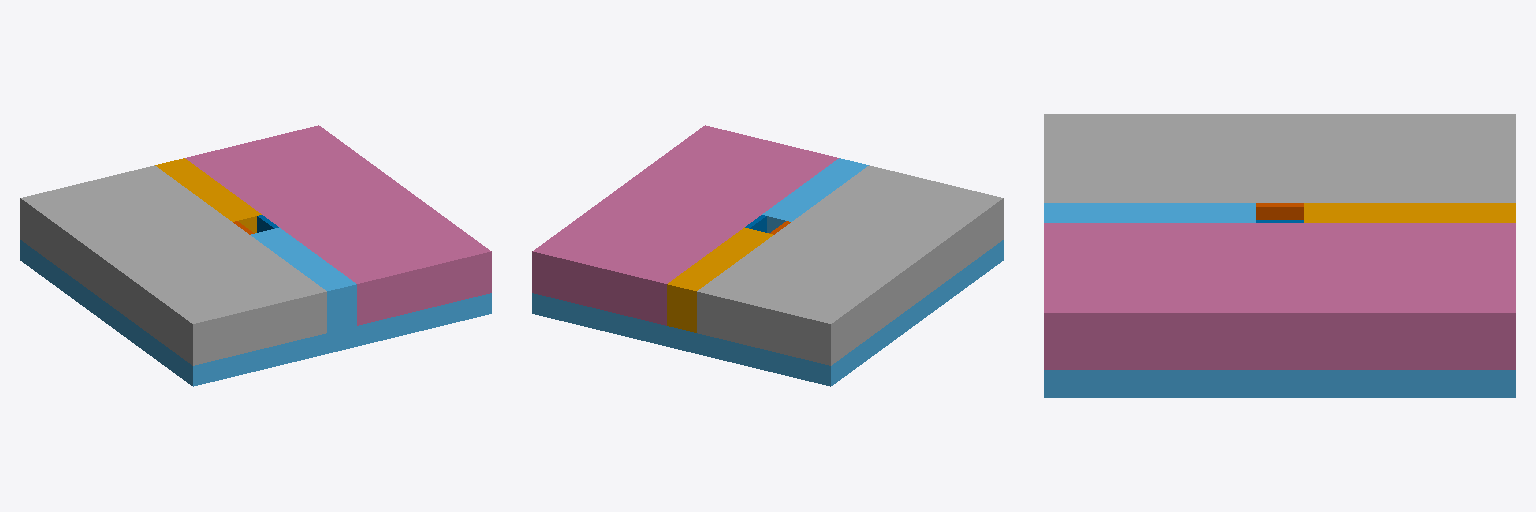
The robot description file, URDF, robot "cube_skeleton":
<?xml version="1.0"?>
<robot name="cube_skeleton">
    <link name="world"/>
    <link name="base_link">
        <inertial>
            <mass value="0.01" />
            <origin xyz="0.000 0 0" rpy="0 0 0" />
            <inertia ixx="1.0" ixy="0" ixz="0" iyy="1.0" iyz="0" izz="1.0" />
        </inertial>
        <visual>
            <origin xyz="0 0 0" rpy="0 0 0" />
            <geometry>
                <mesh filename="./base.obj"/>
            </geometry>
        </visual>
        <collision group="default">
            <origin xyz="0.00 0 0" rpy="0 -0 0" />
            <geometry>
                <mesh filename="./base.obj"/>
            </geometry>
        </collision>
    </link>
    <joint name="base_joint" type="fixed">
        <origin xyz="0 0.0 0.0" rpy="0 0 0" />
        <parent link="world" />
        <child link="base_link" />
    </joint>
    <link name="left">
        <inertial>
            <mass value="0.01" />
            <origin xyz="0.000 0 0" rpy="0 0 0" />
            <inertia ixx="1.0" ixy="0" ixz="0" iyy="1.0" iyz="0" izz="1.0" />
        </inertial>
        <visual>
            <origin xyz="0 0 0" rpy="0 0 0" />
            <geometry>
                <mesh filename="./cube.obj"/>
            </geometry>
        </visual>
        <collision group="default">
            <origin xyz="0.00 0 0" rpy="0 -0 0" />
            <geometry>
                <mesh filename="./cube.obj"/>
            </geometry>
        </collision>
    </link>
    <joint name="left_joint" type="fixed">
        <origin xyz="0 0.0125 0.03" rpy="0 0 0" />
        <parent link="base_link" />
        <child link="left" />
    </joint>
    <link name="right">
        <inertial>
            <mass value="0.01" />
            <origin xyz="0.000 0 0" rpy="0 0 0" />
            <inertia ixx="1.0" ixy="0" ixz="0" iyy="1.0" iyz="0" izz="1.0" />
        </inertial>
        <visual>
            <origin xyz="0 0 0" rpy="0 0 0" />
            <geometry>
                <mesh filename="./cube.obj"/>
            </geometry>
        </visual>
        <collision group="default">
            <origin xyz="0.00 0 0" rpy="0 -0 0" />
            <geometry>
                <mesh filename="./cube.obj"/>
            </geometry>
        </collision>
    </link>
    <joint name="right_joint" type="fixed">
        <origin xyz="0 -0.0125 0.03" rpy="0 0 0" />
        <parent link="base_link" />
        <child link="right" />
    </joint>
    <link name="up">
        <inertial>
            <mass value="0.01" />
            <origin xyz="0.000 0 0" rpy="0 0 0" />
            <inertia ixx="1.0" ixy="0" ixz="0" iyy="1.0" iyz="0" izz="1.0" />
        </inertial>
        <visual>
            <origin xyz="0 0 0" rpy="0 0 0" />
            <geometry>
                <mesh filename="./cube1.obj"/>
            </geometry>
        </visual>
        <collision group="default">
            <origin xyz="0.00 0 0" rpy="0 -0 0" />
            <geometry>
                <mesh filename="./cube1.obj"/>
            </geometry>
        </collision>
    </link>
    <joint name="up_joint" type="fixed">
        <origin xyz="0.0125 0.0 0.03" rpy="0 0 0" />
        <parent link="base_link" />
        <child link="up" />
    </joint>
    <link name="down">
        <inertial>
            <mass value="0.01" />
            <origin xyz="0.000 0 0" rpy="0 0 0" />
            <inertia ixx="1.0" ixy="0" ixz="0" iyy="1.0" iyz="0" izz="1.0" />
        </inertial>
        <visual>
            <origin xyz="0 0 0" rpy="0 0 0" />
            <geometry>
                <mesh filename="./cube1.obj"/>
            </geometry>
        </visual>
        <collision group="default">
            <origin xyz="0.00 0 0" rpy="0 -0 0" />
            <geometry>
                <mesh filename="./cube1.obj"/>
            </geometry>
        </collision>
    </link>
    <joint name="down_joint" type="fixed">
        <origin xyz="-0.0125 0.0 0.03" rpy="0 0 0" />
        <parent link="base_link" />
        <child link="down" />
    </joint>
     <link name="base_up">
        <inertial>
            <mass value="0.01" />
            <origin xyz="0.000 0 0" rpy="0 0 0" />
            <inertia ixx="1.0" ixy="0" ixz="0" iyy="1.0" iyz="0" izz="1.0" />
        </inertial>
        <visual>
            <origin xyz="0 0 0" rpy="0 0 0" />
            <geometry>
                <mesh filename="./cube2.obj"/>
            </geometry>
        </visual>
        <collision group="default">
            <origin xyz="0.00 0 0" rpy="0 -0 0" />
            <geometry>
                <mesh filename="./cube2.obj"/>
            </geometry>
        </collision>
    </link>
    <joint name="base_up_joint" type="fixed">
        <origin xyz="0.0825 0.0 0.03" rpy="0 0 0" />
        <parent link="base_link" />
        <child link="base_up" />
    </joint>
    <link name="base_down">
        <inertial>
            <mass value="0.01" />
            <origin xyz="0.000 0 0" rpy="0 0 0" />
            <inertia ixx="1.0" ixy="0" ixz="0" iyy="1.0" iyz="0" izz="1.0" />
        </inertial>
        <visual>
            <origin xyz="0 0 0" rpy="0 0 0" />
            <geometry>
                <mesh filename="./cube2.obj"/>
            </geometry>
        </visual>
        <collision group="default">
            <origin xyz="0.00 0 0" rpy="0 -0 0" />
            <geometry>
                <mesh filename="./cube2.obj"/>
            </geometry>
        </collision>
    </link>
    <joint name="base_down_joint" type="fixed">
        <origin xyz="-0.0825 0.0 0.03" rpy="0 0 0" />
        <parent link="base_link" />
        <child link="base_down" />
    </joint>
    <link name="base_left">
        <inertial>
            <mass value="0.01" />
            <origin xyz="0.000 0 0" rpy="0 0 0" />
            <inertia ixx="1.0" ixy="0" ixz="0" iyy="1.0" iyz="0" izz="1.0" />
        </inertial>
        <visual>
            <origin xyz="0 0 0" rpy="0 0 0" />
            <geometry>
                <mesh filename="./cube3.obj"/>
            </geometry>
        </visual>
        <collision group="default">
            <origin xyz="0.00 0 0" rpy="0 -0 0" />
            <geometry>
                <mesh filename="./cube3.obj"/>
            </geometry>
        </collision>
    </link>
    <joint name="base_left_joint" type="fixed">
        <origin xyz="0 0.0825 0.03" rpy="0 0 0" />
        <parent link="base_link" />
        <child link="base_left" />
    </joint>
    <link name="base_right">
        <inertial>
            <mass value="0.01" />
            <origin xyz="0.000 0 0" rpy="0 0 0" />
            <inertia ixx="1.0" ixy="0" ixz="0" iyy="1.0" iyz="0" izz="1.0" />
        </inertial>
        <visual>
            <origin xyz="0 0 0" rpy="0 0 0" />
            <geometry>
                <mesh filename="./cube3.obj"/>
            </geometry>
        </visual>
        <collision group="default">
            <origin xyz="0.00 0 0" rpy="0 -0 0" />
            <geometry>
                <mesh filename="./cube3.obj"/>
            </geometry>
        </collision>
    </link>
    <joint name="base_right_joint" type="fixed">
        <origin xyz="0 -0.0825 0.03" rpy="0 0 0" />
        <parent link="base_link" />
        <child link="base_right" />
    </joint>
</robot>

--- Render facts (derived) ---
3 views of the same robot in one strip: view 1: azimuth 30°, elevation 25°; view 2: azimuth 150°, elevation 25°; view 3: azimuth 270°, elevation 25° (orthographic).
Model cube_skeleton with 10 links and 9 joints (9 fixed), rooted at world, posed all joints at 0.
Links seen in each view (by area): view 1: base_down, base_up, base_link, base_right, base_left; view 2: base_down, base_up, base_link, base_left, base_right; view 3: base_up, base_down, base_link, base_left, base_right, down.
Link boxes in pixels (<box>): base_down: <box>20,165,326,365</box>; base_up: <box>185,125,491,325</box>; base_link: <box>20,240,491,386</box>; base_right: <box>251,227,356,332</box>; base_left: <box>155,158,261,232</box>; base_down: <box>697,165,1003,365</box>; base_up: <box>532,125,838,325</box>; base_link: <box>532,240,1003,386</box>; base_left: <box>667,227,772,332</box>; base_right: <box>762,158,868,232</box>; base_up: <box>1044,223,1515,369</box>; base_down: <box>1044,114,1515,202</box>; base_link: <box>1044,370,1515,397</box>; base_left: <box>1304,203,1515,222</box>; base_right: <box>1044,203,1255,222</box>; down: <box>1256,203,1303,219</box>.
Size in the robot's own frame: 0.3 by 0.3 by 0.06 metres.
Meshes: 5 distinct files referenced, 7 mesh visuals loaded (4 OBJ); not drawn: 2 (reference not matched to a file when rendering).
